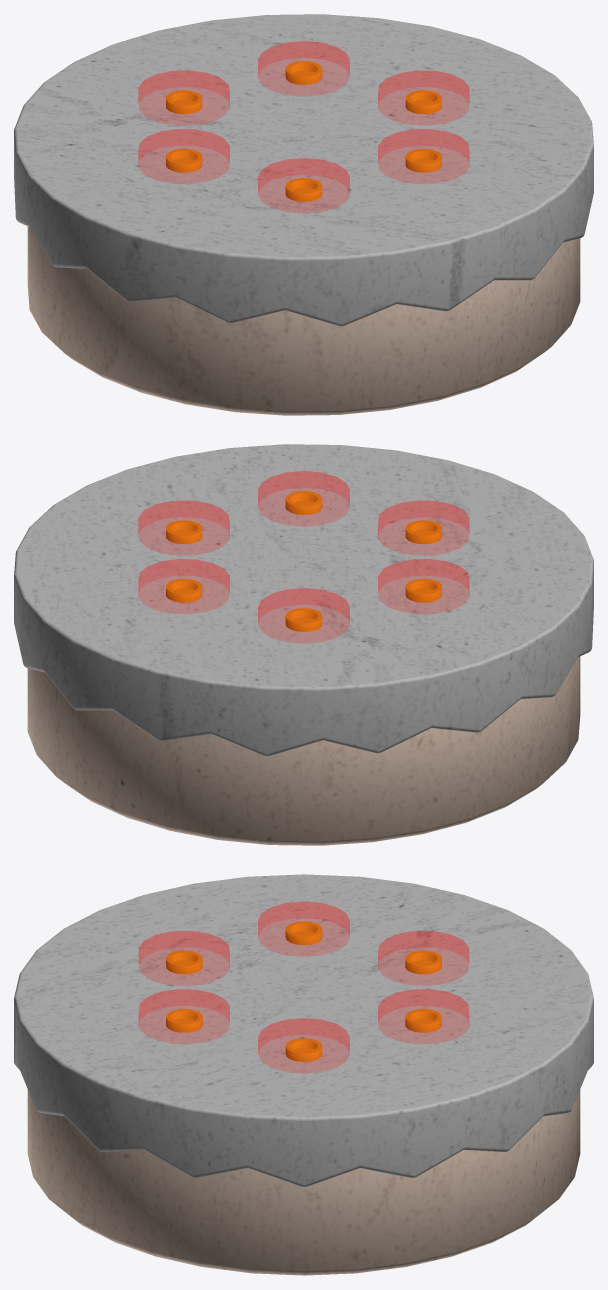
The model's file is Cake.fbx.
3 views of the same model, one above another, from view 1: azimuth 30°, elevation 25°; view 2: azimuth 150°, elevation 25°; view 3: azimuth 270°, elevation 25° (orthographic).
Visible parts, largest first — view 1: Top, Base, IN.001, IN.003, IN.005, IN.002, IN.000, IN.004, CandleSlot.005, CandleSlot.002, CandleSlot.000, CandleSlot.004 (+2 smaller); view 2: Top, Base, IN.003, IN.005, IN.001, IN.004, IN.000, IN.002, CandleSlot.001, CandleSlot.004, CandleSlot.000, CandleSlot.002 (+2 smaller); view 3: Top, Base, IN.000, IN.003, IN.001, IN.005, IN.002, IN.004, CandleSlot.000, CandleSlot.003, CandleSlot.002, CandleSlot.004 (+2 smaller).
Part boxes in pixels (left/top/right/bottom): Top: left=14, top=14, right=593, bottom=326; Base: left=27, top=226, right=580, bottom=415; IN.001: left=378, top=129, right=469, bottom=183; IN.003: left=138, top=129, right=229, bottom=183; IN.005: left=258, top=41, right=349, bottom=95; IN.002: left=258, top=158, right=349, bottom=212; IN.000: left=378, top=70, right=469, bottom=124; IN.004: left=138, top=70, right=229, bottom=124; CandleSlot.005: left=285, top=61, right=322, bottom=84; CandleSlot.002: left=285, top=178, right=322, bottom=201; CandleSlot.000: left=405, top=90, right=441, bottom=114; CandleSlot.004: left=166, top=90, right=202, bottom=114; Top: left=14, top=444, right=593, bottom=756; Base: left=27, top=656, right=580, bottom=845; IN.003: left=378, top=559, right=469, bottom=613; IN.005: left=138, top=559, right=229, bottom=613; IN.001: left=258, top=471, right=349, bottom=525; IN.004: left=258, top=588, right=349, bottom=642; IN.000: left=138, top=500, right=229, bottom=554; IN.002: left=378, top=500, right=469, bottom=554; CandleSlot.001: left=285, top=491, right=322, bottom=514; CandleSlot.004: left=285, top=608, right=322, bottom=631; CandleSlot.000: left=166, top=520, right=202, bottom=544; CandleSlot.002: left=405, top=520, right=441, bottom=544; Top: left=14, top=874, right=593, bottom=1186; Base: left=27, top=1089, right=580, bottom=1275; IN.000: left=258, top=1018, right=349, bottom=1072; IN.003: left=258, top=901, right=349, bottom=956; IN.001: left=139, top=989, right=229, bottom=1043; IN.005: left=378, top=989, right=468, bottom=1043; IN.002: left=139, top=931, right=229, bottom=985; IN.004: left=378, top=931, right=468, bottom=985; CandleSlot.000: left=285, top=1038, right=322, bottom=1061; CandleSlot.003: left=285, top=921, right=322, bottom=945; CandleSlot.002: left=166, top=950, right=202, bottom=974; CandleSlot.004: left=405, top=950, right=441, bottom=974.
Bounding box in the file's own units: 0.63 × 0.22 × 0.63.
